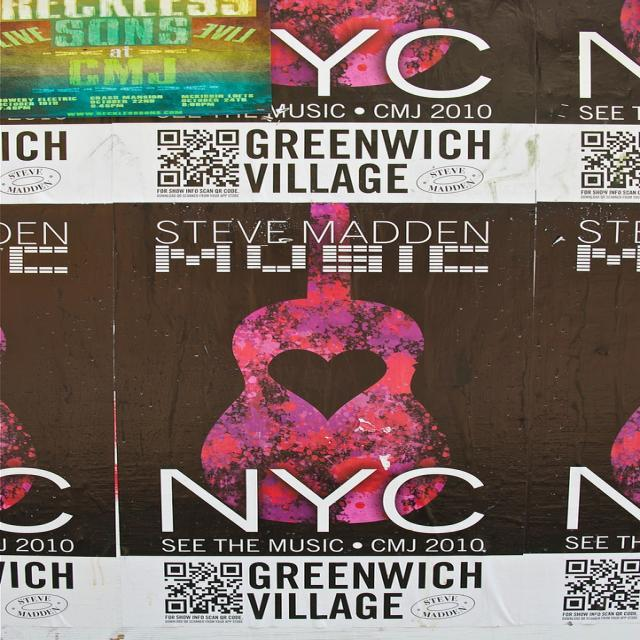qr-code: (156, 130, 238, 187), (164, 562, 242, 614), (563, 559, 639, 610), (582, 132, 640, 188)
